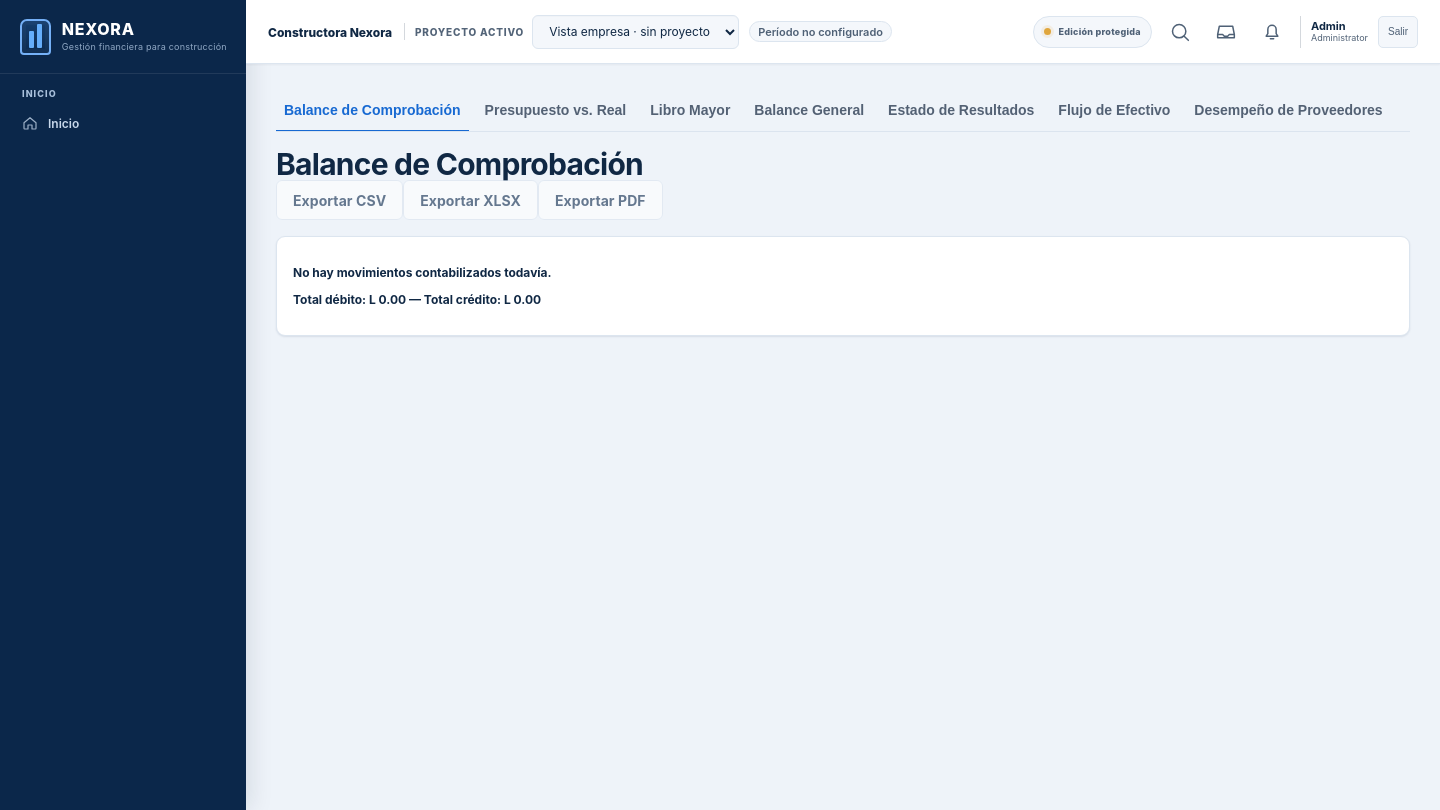
IncomeStatementPage › renders revenue, expenses and net income from the real API response
Click the tab "Estado de Resultados": (961, 111) [880,90,1042,132]
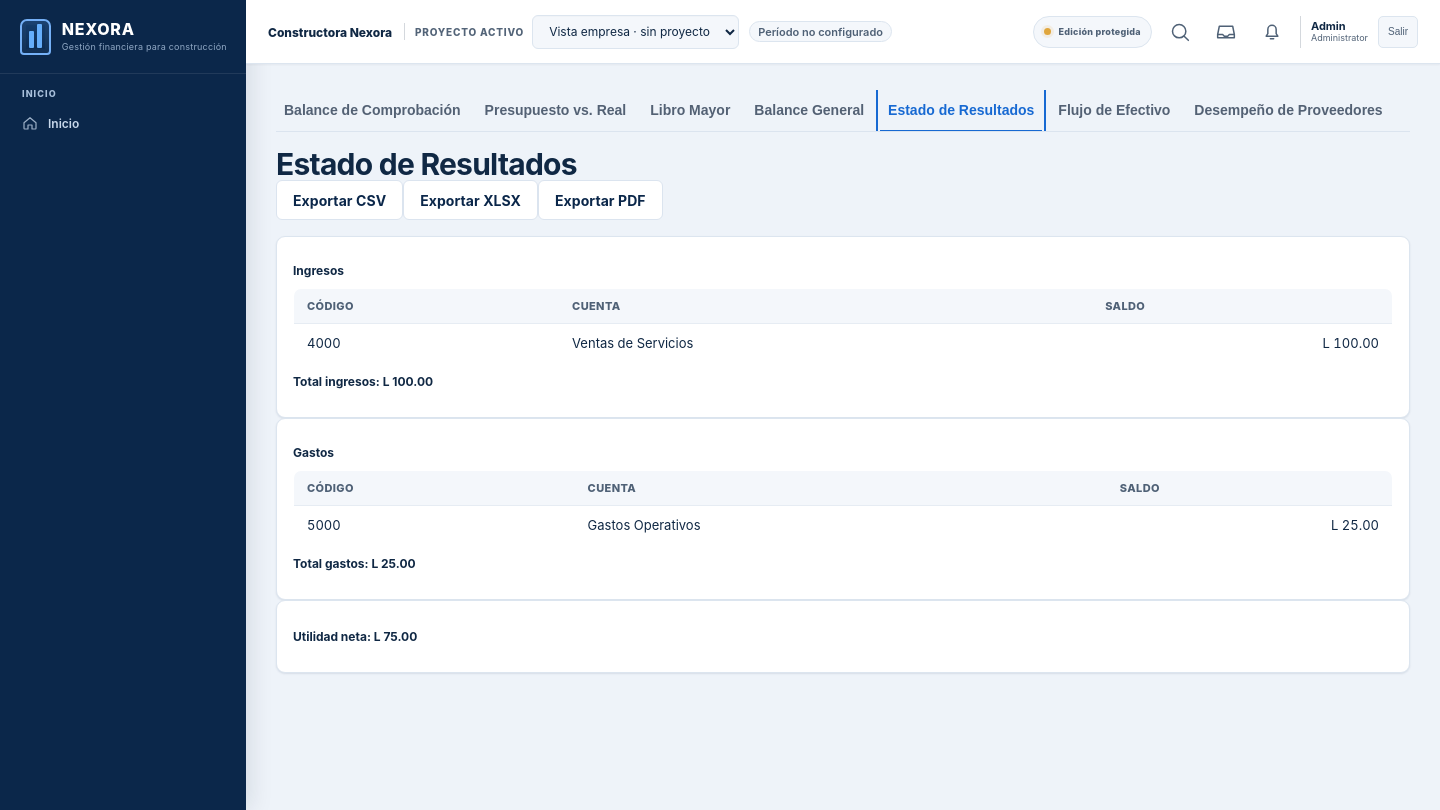
Expected: the text "Ventas de Servicios" is shown, [559,324,1092,362]
Expected: the text "Gastos Operativos" is shown, [575,506,1107,544]
Expected: the text "Utilidad neta: L 75.00" is shown, [293,629,417,644]
